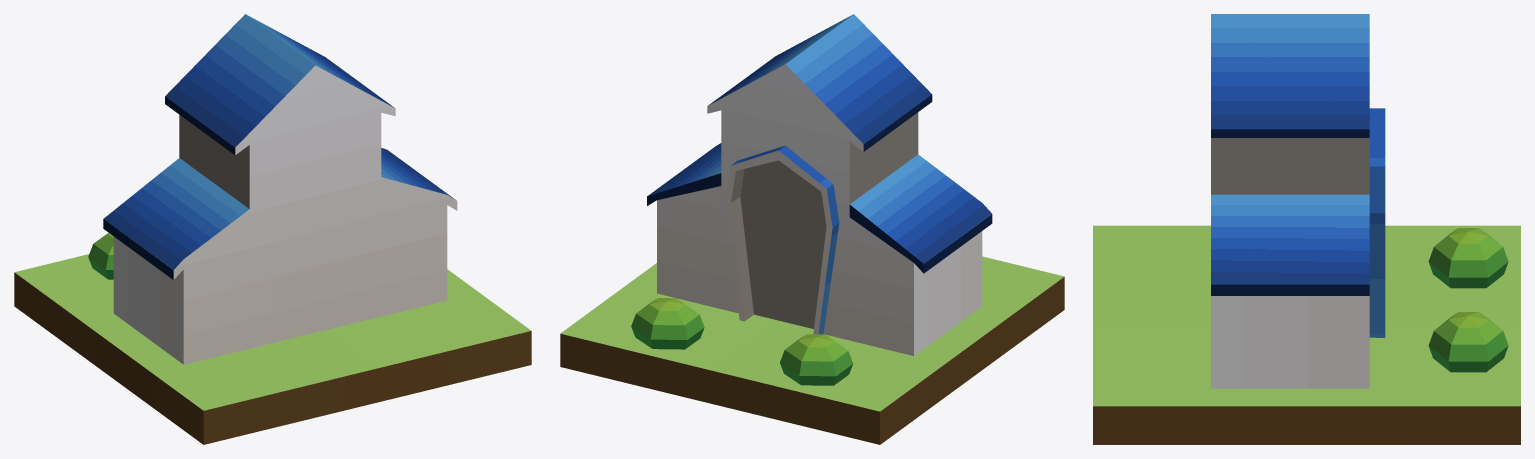
File: eglise.fbx
The picture shows the model from 3 angles, left to right: view 1: azimuth 30°, elevation 25°; view 2: azimuth 150°, elevation 25°; view 3: azimuth 270°, elevation 25°; orthographic projection. The views are drawn at different scales.
Visible parts, largest first — view 1: EGLISE, base 1, buisson.001; view 2: EGLISE, base 1, buisson.001; view 3: EGLISE, base 1, buisson.001.
Part boxes in pixels (<box>): EGLISE: <box>103,14,457,364</box>; base 1: <box>14,254,531,444</box>; buisson.001: <box>88,233,113,279</box>; EGLISE: <box>647,14,992,355</box>; base 1: <box>560,256,1064,444</box>; buisson.001: <box>631,298,853,385</box>; EGLISE: <box>1211,14,1385,388</box>; base 1: <box>1093,225,1520,444</box>; buisson.001: <box>1428,228,1508,372</box>.
Bounding box in the file's own units: 200 × 200 × 176.
